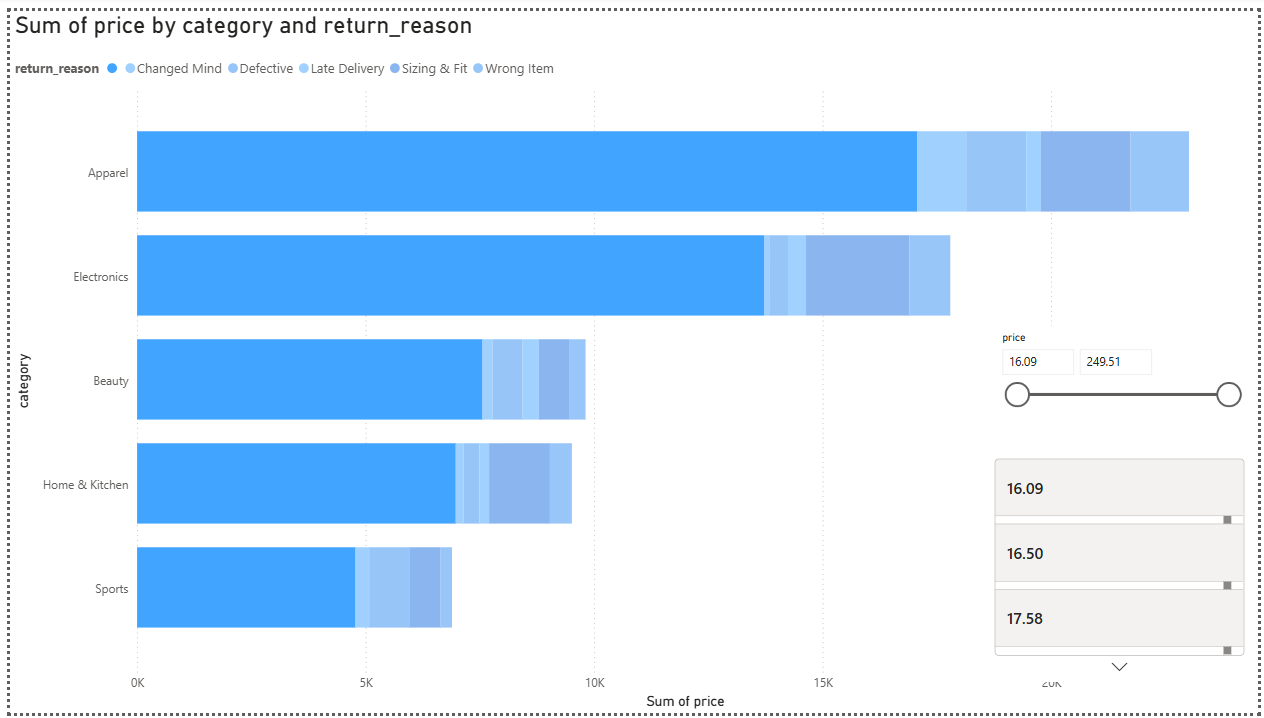

Layout of this report page (visuals, bound fields, positions):
{"tool":"powerbi","page":{"name":"Page 1","canvas":[1280,720],"ordinal":0},"visuals":[{"type":"barChart","fields":{"Category":["ECommerce_Sales_and_Returns_Dataset.category"],"Y":["Sum(ECommerce_Sales_and_Returns_Dataset.price)"],"Series":["ECommerce_Sales_and_Returns_Dataset.return_reason"]},"box":[0,0,1269.9,720],"z":0},{"type":"slicer","fields":{"Values":["ECommerce_Sales_and_Returns_Dataset.price"]},"box":[1004.2,322.9,266.7,110.4],"z":1001},{"type":"cardVisual","fields":{"Data":["Min(ECommerce_Sales_and_Returns_Dataset.category)"],"Rows":["ECommerce_Sales_and_Returns_Dataset.price"]},"box":[1004.2,433.3,266.7,254.2],"z":1002}]}

Visuals, with their boxes in screenshot pixels (x1, y1, x2, y2), scaled from the page's 1280x720 canvas onto the 1264x718 screenshot:
barChart - ECommerce_Sales_and_Returns_Dataset.category x Sum(ECommerce_Sales_and_Returns_Dataset.price): pyautogui.locateOnScreen(0, 0, 1254, 717)
slicer - ECommerce_Sales_and_Returns_Dataset.price: pyautogui.locateOnScreen(992, 322, 1255, 432)
cardVisual - Min(ECommerce_Sales_and_Returns_Dataset.category) x ECommerce_Sales_and_Returns_Dataset.price: pyautogui.locateOnScreen(992, 432, 1255, 686)
